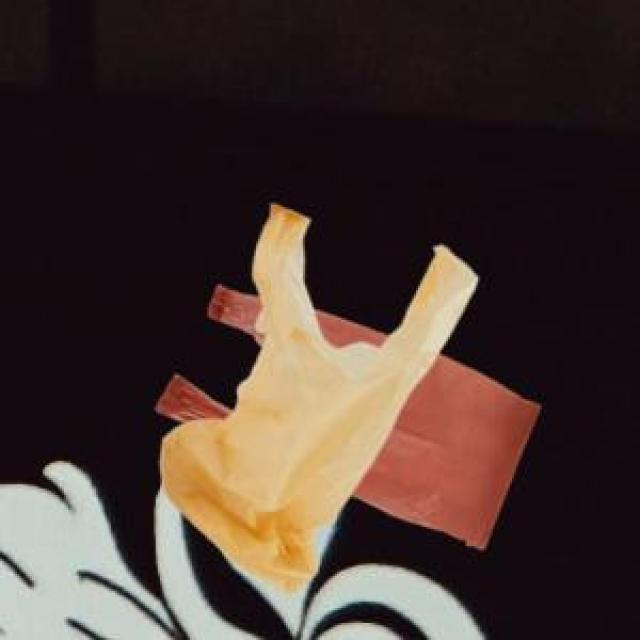waste: (156, 204, 540, 591)
